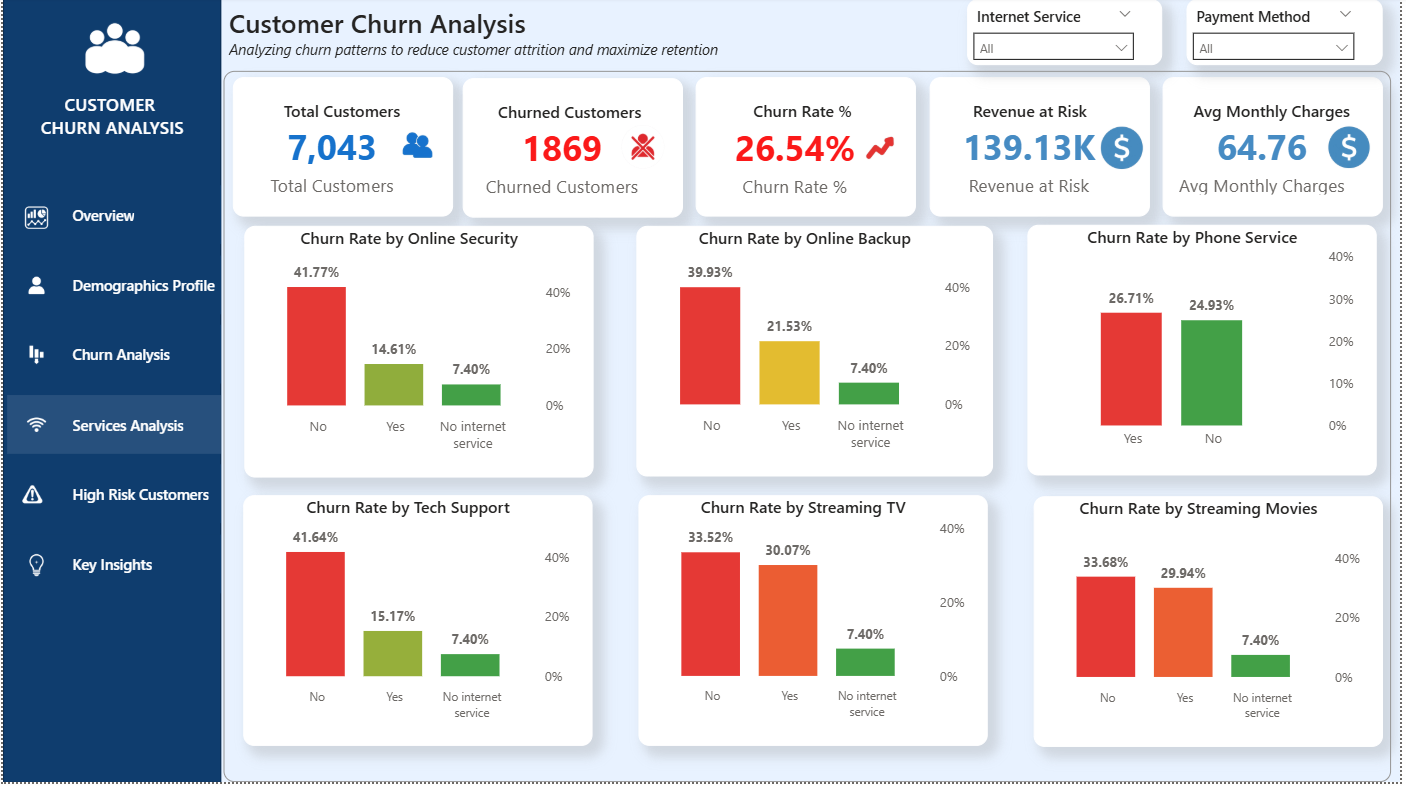

Layout of this report page (visuals, bound fields, positions):
{"tool":"powerbi","page":{"name":"Services Analysis","canvas":[1280,720],"ordinal":3},"visuals":[{"type":"shape","title":"Menu BG","box":[0,0,200,720.3],"z":0},{"type":"image","box":[40.1,0,124.6,94.6],"z":1000},{"type":"textbox","box":[0,82.3,200.3,55.6],"z":2000},{"type":"pageNavigator","title":"Menu Buttons","box":[3.3,172.5,196,378.3],"z":3000},{"type":"image","box":[3.3,186.9,53.4,31.1],"z":4000},{"type":"image","box":[3.3,249.3,53.4,31.1],"z":5000},{"type":"image","box":[3.3,312.7,53.4,31.1],"z":6000},{"type":"image","box":[3.3,376.1,53.4,31.1],"z":7000},{"type":"image","box":[0,440.6,53.4,31.1],"z":8000},{"type":"image","box":[3.3,505.2,53.4,31.1],"z":9000},{"type":"textbox","box":[201.8,2.1,470.2,72.8],"z":10000},{"type":"shape","box":[202.1,67.7,1070.5,652],"z":11000},{"type":"card","title":"    Total Customers","fields":{"Values":["public customer_churn.Total Customers"]},"box":[211,73.4,202,127.7],"z":12000},{"type":"image","box":[352.7,96.3,54.3,60],"z":13000},{"type":"card","title":"   Churned Customers","fields":{"Values":["public customer_churn.Churned Customers"]},"box":[421.3,74.4,202.1,127.7],"z":14000},{"type":"image","box":[559.5,98.2,54.3,59.1],"z":15000},{"type":"card","title":"   Churn Rate  %","fields":{"Values":["public customer_churn.Churn Rate"]},"box":[634.8,73.4,202.1,127.7],"z":16000},{"type":"image","box":[775.9,99.1,54.3,59.1],"z":17000},{"type":"card","title":"Revenue at Risk ","fields":{"Values":["public customer_churn.Revenue at Risk"]},"box":[849.3,73.4,202.1,127.7],"z":18000},{"type":"image","box":[997.8,99.4,55.4,59.2],"z":19000},{"type":"card","title":"    Avg Monthly Charges","fields":{"Values":["public customer_churn.Avg Monthly Charges"]},"box":[1062.8,73.4,202.1,127.7],"z":20000},{"type":"image","box":[1206.8,98.2,54.3,60],"z":21000},{"type":"columnChart","title":"Churn Rate by Online Security","fields":{"Y":["public customer_churn.Churn Rate %"],"Category":["public customer_churn.online_security"]},"box":[221.1,209.7,320.3,230.7],"z":22000},{"type":"columnChart","title":"Churn Rate by Online Backup","fields":{"Category":["public customer_churn.online_backup"],"Y":["public customer_churn.Churn Rate %"]},"box":[580.5,209.7,327,229.7],"z":23000},{"type":"columnChart","title":"Churn Rate by Phone Service","fields":{"Y":["public customer_churn.Churn Rate %"],"Category":["public customer_churn.phone_service"]},"box":[938.9,208.8,320.3,230],"z":24000},{"type":"columnChart","title":"Churn Rate by Tech Support","fields":{"Category":["public customer_churn.tech_support"],"Y":["public customer_churn.Churn Rate %"]},"box":[220,456.6,320.3,230],"z":25000},{"type":"columnChart","title":"Churn Rate by Streaming TV","fields":{"Category":["public customer_churn.streaming_tv"],"Y":["public customer_churn.Churn Rate %"]},"box":[582.4,456.6,320.3,229.7],"z":26000},{"type":"columnChart","title":"Churn Rate by Streaming Movies","fields":{"Category":["public customer_churn.streaming_movies"],"Y":["public customer_churn.Churn Rate %"]},"box":[944.6,457.5,320.3,229.7],"z":27000},{"type":"slicer","fields":{"Values":["public customer_churn.payment_method"]},"box":[1084.7,1.9,179.7,60.2],"z":28000},{"type":"slicer","fields":{"Values":["public customer_churn.internet_service"]},"box":[884,1.9,178.7,60.2],"z":29000}]}

Visuals, with their boxes in screenshot pixels (x1, y1, x2, y2), scaled from the page's 1280x720 canvas onto the 1406x786 screenshot:
"Menu BG" shape: [0,0,220,785]
image: [44,0,181,103]
textbox: [0,90,220,151]
"Menu Buttons" pageNavigator: [4,188,219,601]
image: [4,204,62,238]
image: [4,272,62,306]
image: [4,341,62,375]
image: [4,411,62,445]
image: [0,481,59,515]
image: [4,552,62,585]
textbox: [222,2,738,82]
shape: [222,74,1398,785]
"    Total Customers" card: [232,80,454,220]
image: [387,105,447,171]
"   Churned Customers" card: [463,81,685,221]
image: [615,107,674,172]
"   Churn Rate  %" card: [697,80,919,220]
image: [852,108,912,173]
"Revenue at Risk " card: [933,80,1155,220]
image: [1096,109,1157,173]
"    Avg Monthly Charges" card: [1167,80,1389,220]
image: [1326,107,1385,173]
"Churn Rate by Online Security" columnChart: [243,229,595,481]
"Churn Rate by Online Backup" columnChart: [638,229,997,480]
"Churn Rate by Phone Service" columnChart: [1031,228,1383,479]
"Churn Rate by Tech Support" columnChart: [242,498,593,750]
"Churn Rate by Streaming TV" columnChart: [640,498,992,749]
"Churn Rate by Streaming Movies" columnChart: [1038,499,1389,750]
slicer - public customer_churn.payment_method: [1191,2,1389,68]
slicer - public customer_churn.internet_service: [971,2,1167,68]
